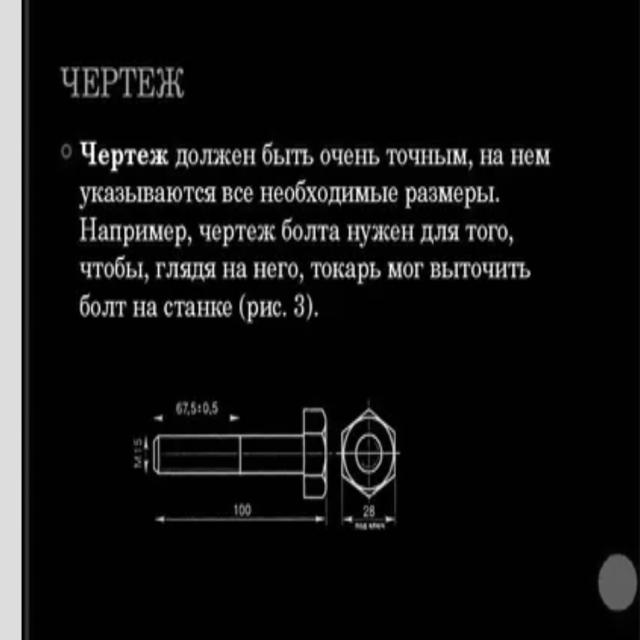marking_line: (153, 501, 332, 526), (338, 497, 400, 533), (152, 414, 241, 432), (144, 432, 150, 477)
numeric: (294, 292, 302, 317), (238, 501, 245, 517), (362, 504, 369, 518), (212, 400, 218, 416), (203, 401, 210, 414), (246, 503, 252, 517), (176, 401, 182, 415), (183, 401, 189, 414), (369, 504, 375, 516), (133, 438, 143, 445), (191, 401, 196, 415), (135, 446, 142, 454), (234, 503, 238, 516)
